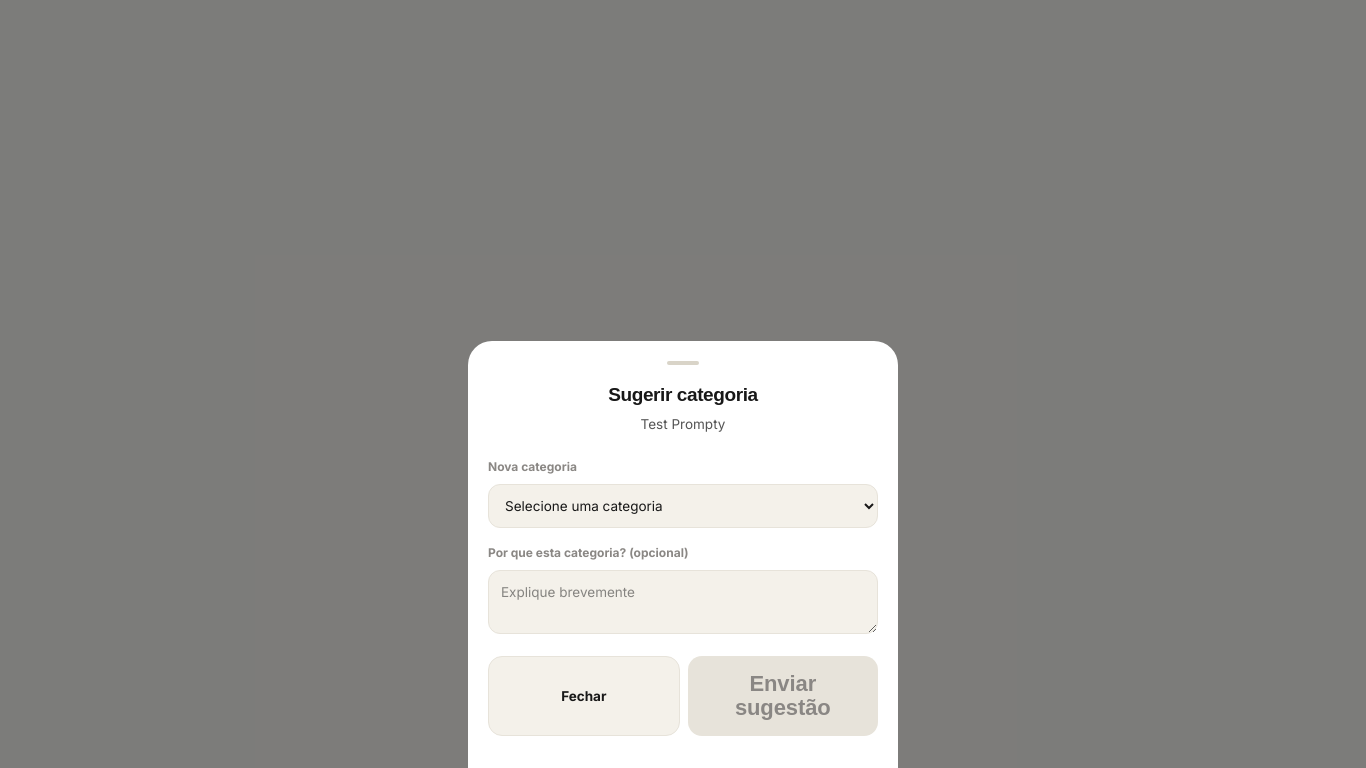
CategorySuggestSheet › 'Enviar sugestão' button is disabled until category selected
Expected: the button "Enviar sugestão" is disabled, x1=688 y1=656 x2=878 y2=736
Select "Retrato" in the dropdown named "nova categoria" at point(683, 506), box x1=488 y1=484 x2=878 y2=528
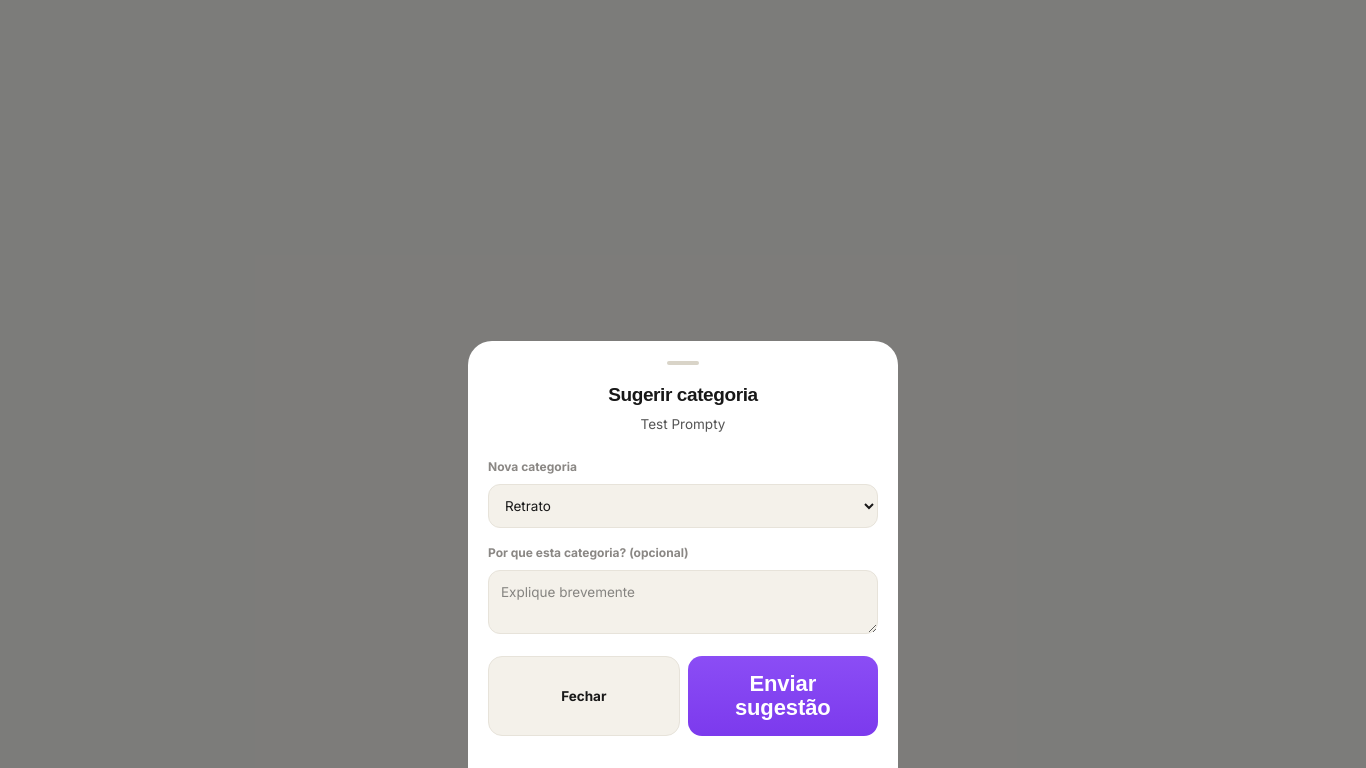
Expected: the button "Enviar sugestão" is enabled, x1=688 y1=656 x2=878 y2=736
